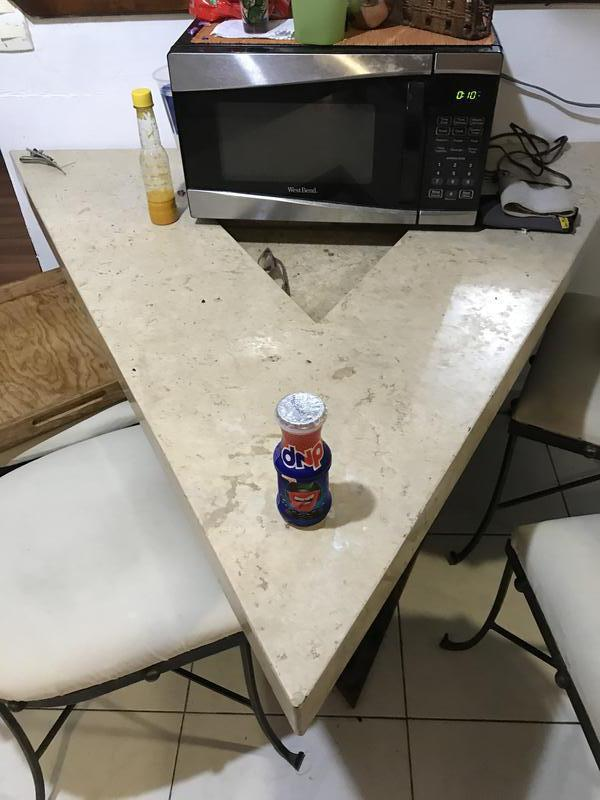danup: (274, 395, 335, 528)
